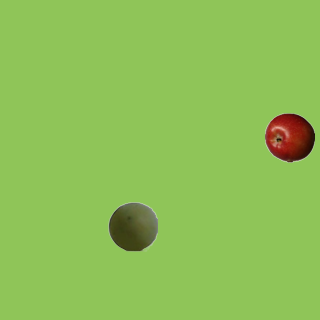Apple Braeburn: (264, 112, 314, 162)
Grape White 4: (107, 201, 157, 251)
